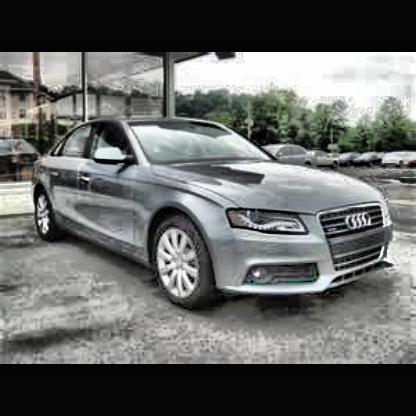Audi S4 Sedan 2012: (33, 116, 394, 314)
